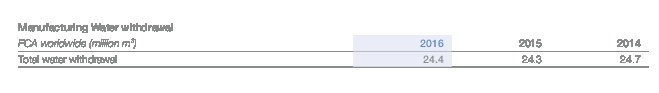table: (0, 0, 659, 93)
